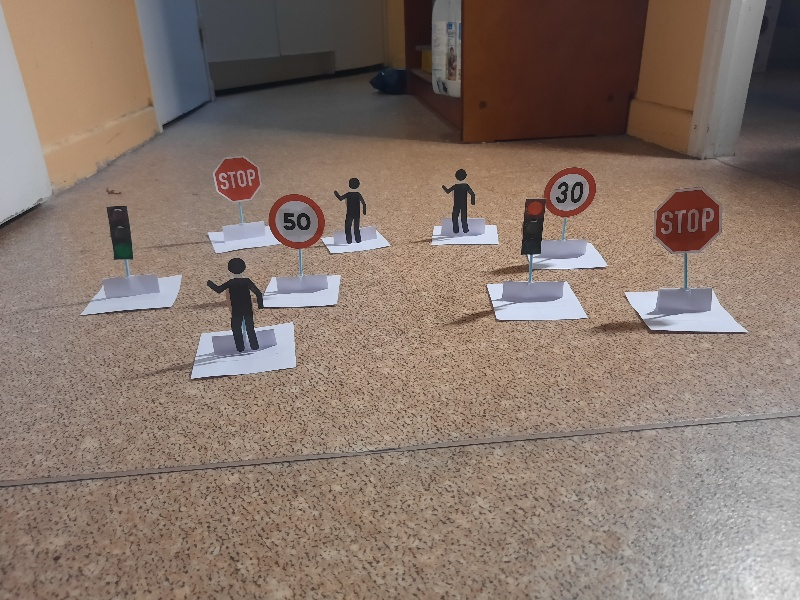Green: (108, 202, 134, 260)
Limit 30: (544, 168, 596, 213)
Limit 50: (268, 196, 325, 248)
Person: (335, 176, 368, 246), (443, 171, 476, 231)
Red: (522, 199, 544, 254)
Stop: (657, 190, 722, 251), (215, 159, 261, 197)
person: (209, 260, 263, 349)
